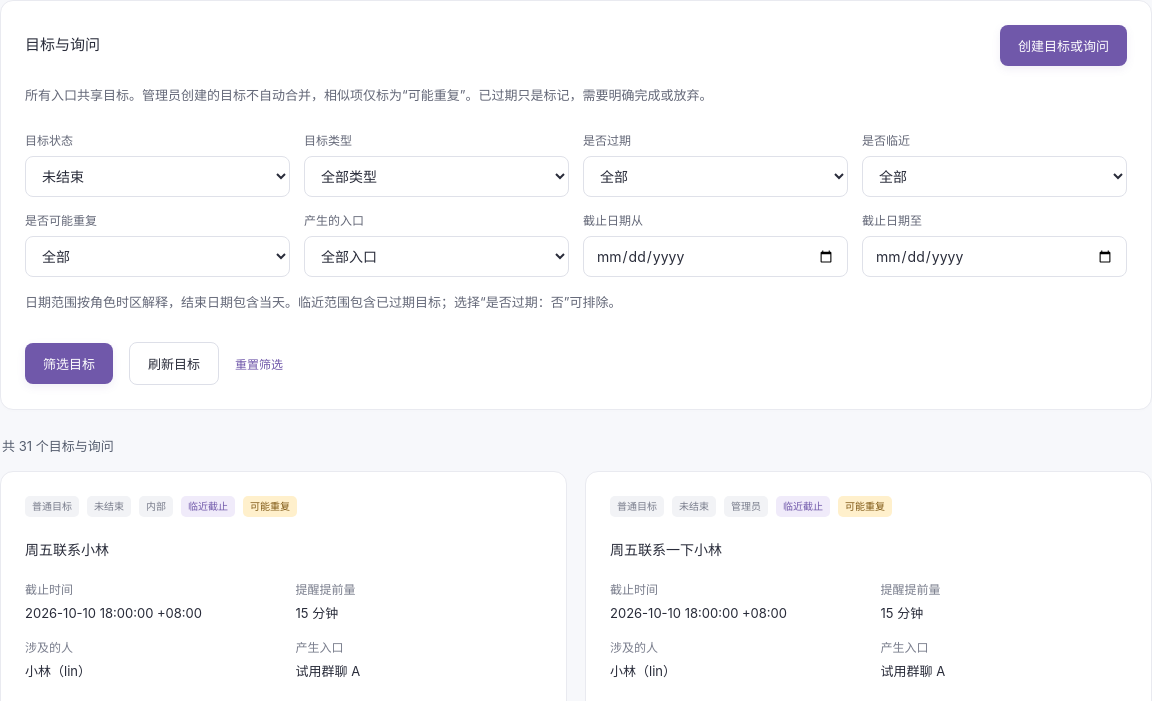
Test: 管理员创建普通目标后展示可能重复结果，不自动合并
Click the button "创建目标或询问".
click(1064, 46)  # box [1000,25,1127,66]
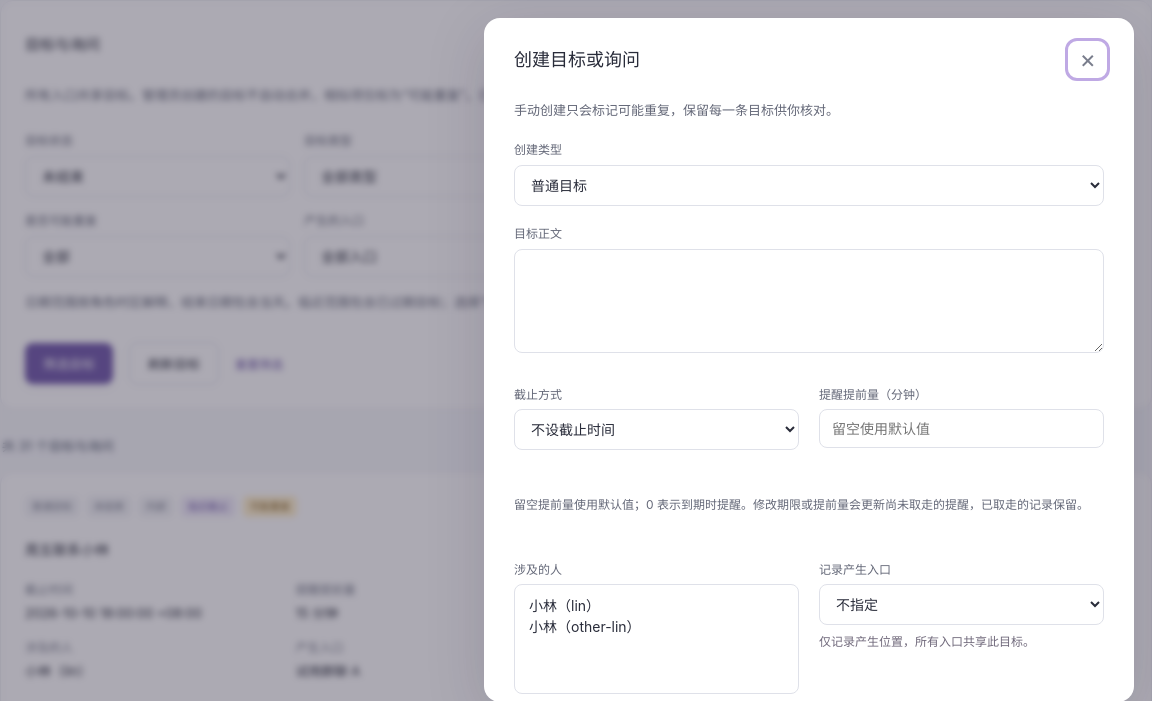
Type "周五联系小林" into the text box labelled "目标正文".
click(809, 301); type("周五联系小林")  # box [514,249,1104,353]
Select "指定日期" in the dropdown labelled "截止方式" at (656, 430), box [514,409,799,450]
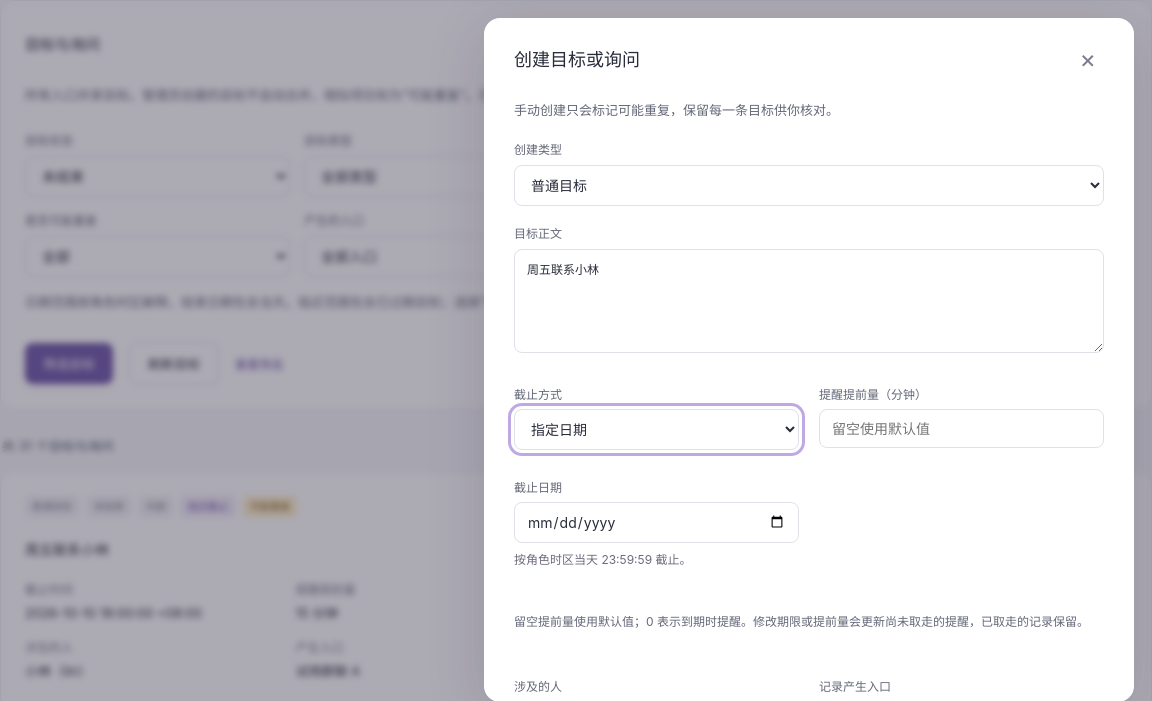
Type "2026-10-10" into the date field labelled "截止日期".
click(656, 522); type("2026-10-10")  # box [514,502,799,543]
Type "0" into the number field labelled "提醒提前量（分钟）".
click(962, 428); type("0")  # box [819,409,1104,448]
(page scrolled)
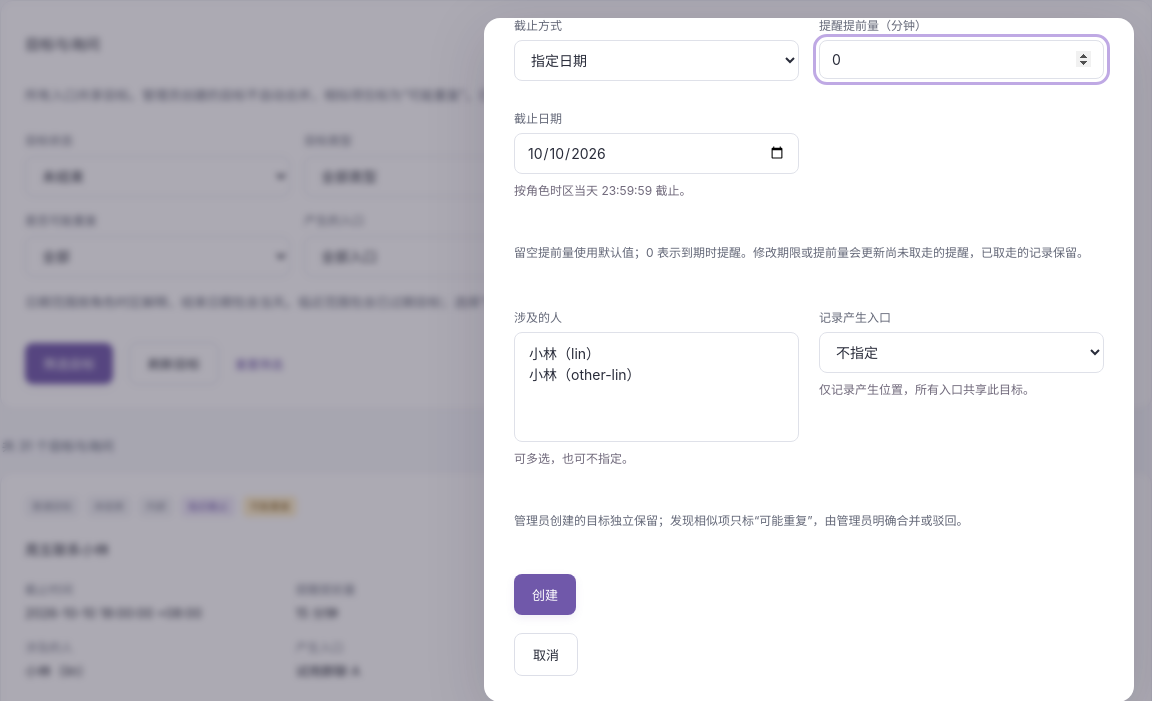
Select "小林（lin）" in the dropdown labelled "涉及的人" at (656, 386), box [514,332,799,442]
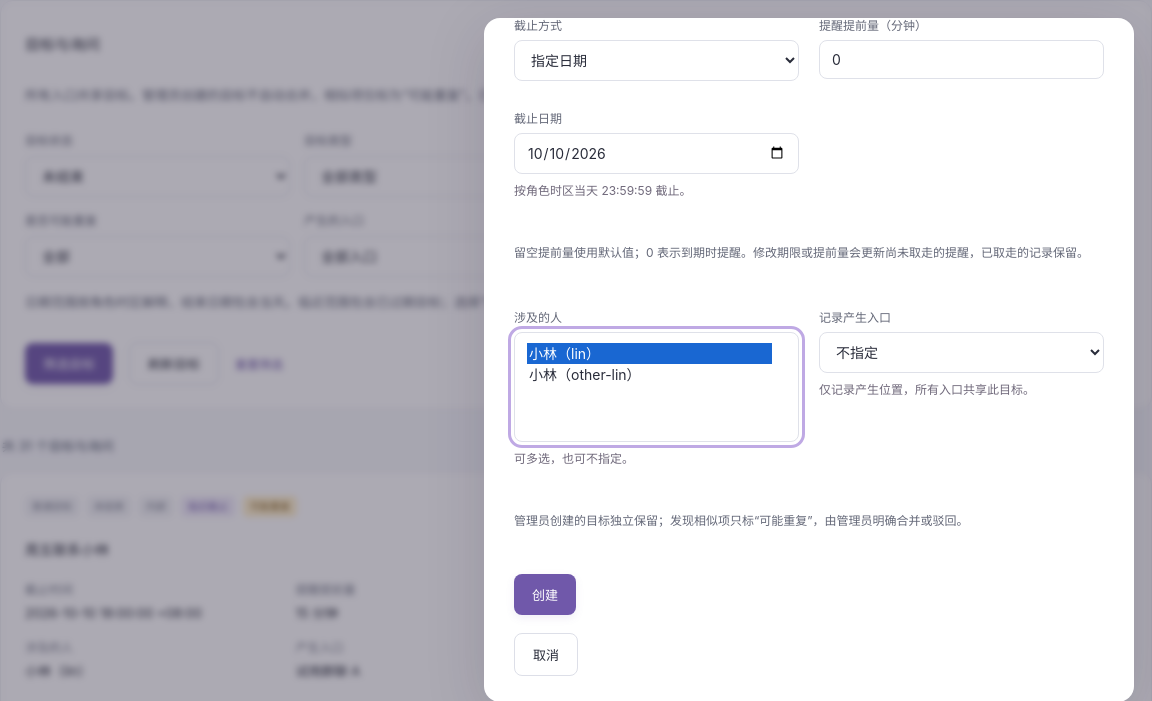
Select "试用群聊 A · trial-a" in the dropdown labelled "记录产生入口" at (962, 352), box [819,332,1104,372]
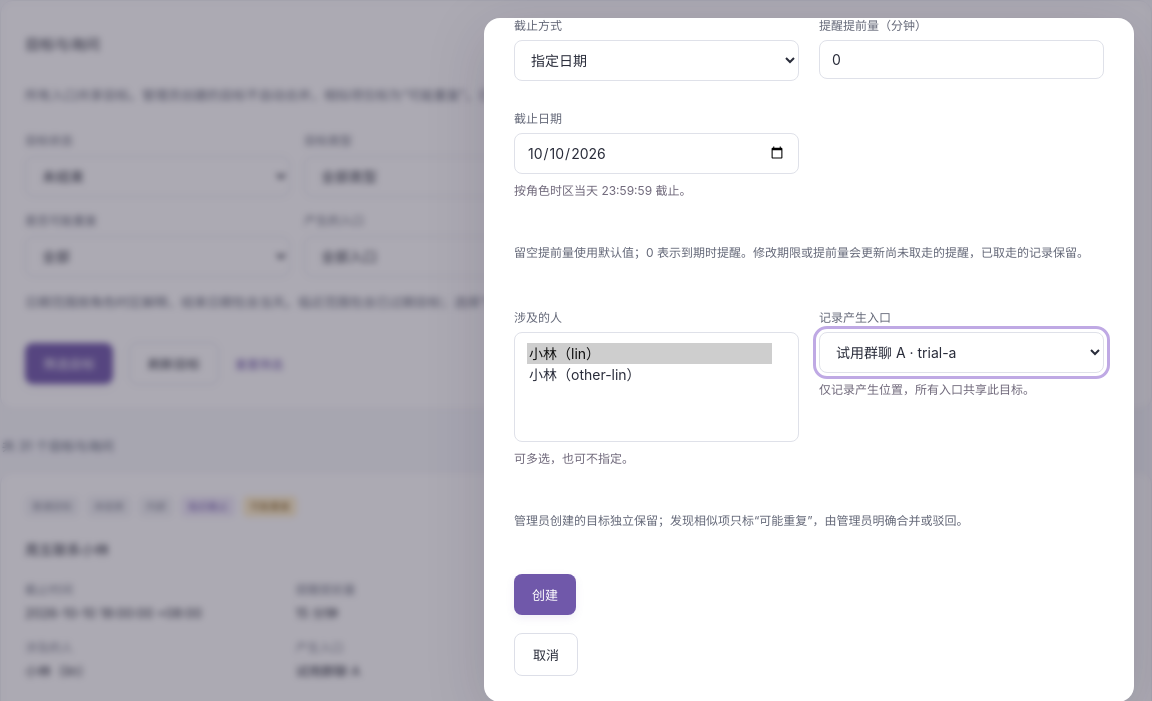
Click the button "创建".
click(545, 595)  # box [514,574,576,615]
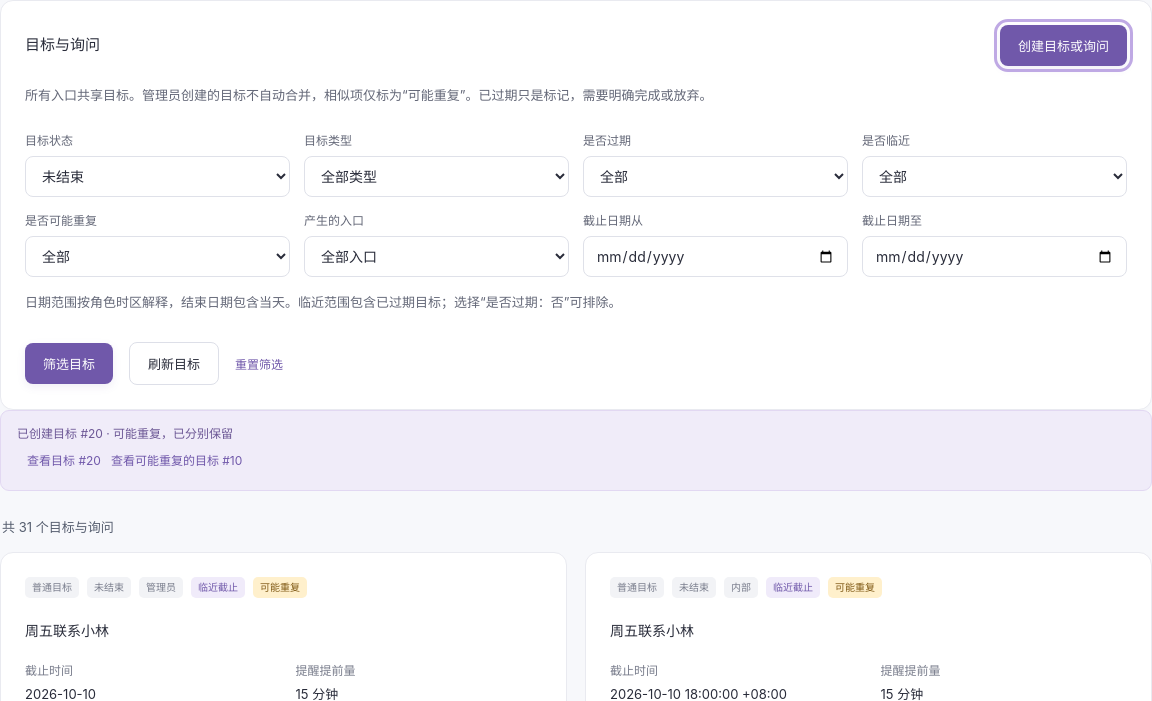
Check: the text "已创建目标 #20 · 可能重复，已分别保留" is shown, box [17,426,233,441]
